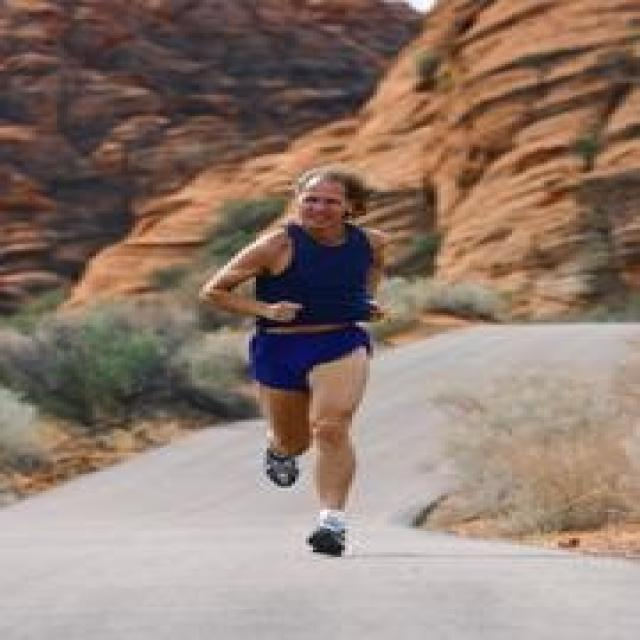running: (194, 166, 395, 561)
